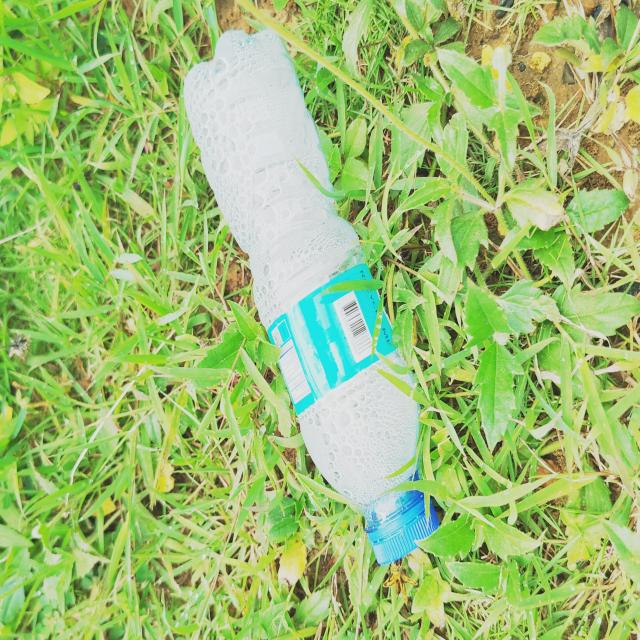plastic: (180, 24, 458, 582)
